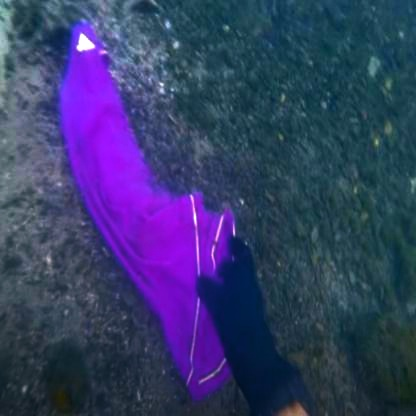plastic: (58, 29, 252, 395)
